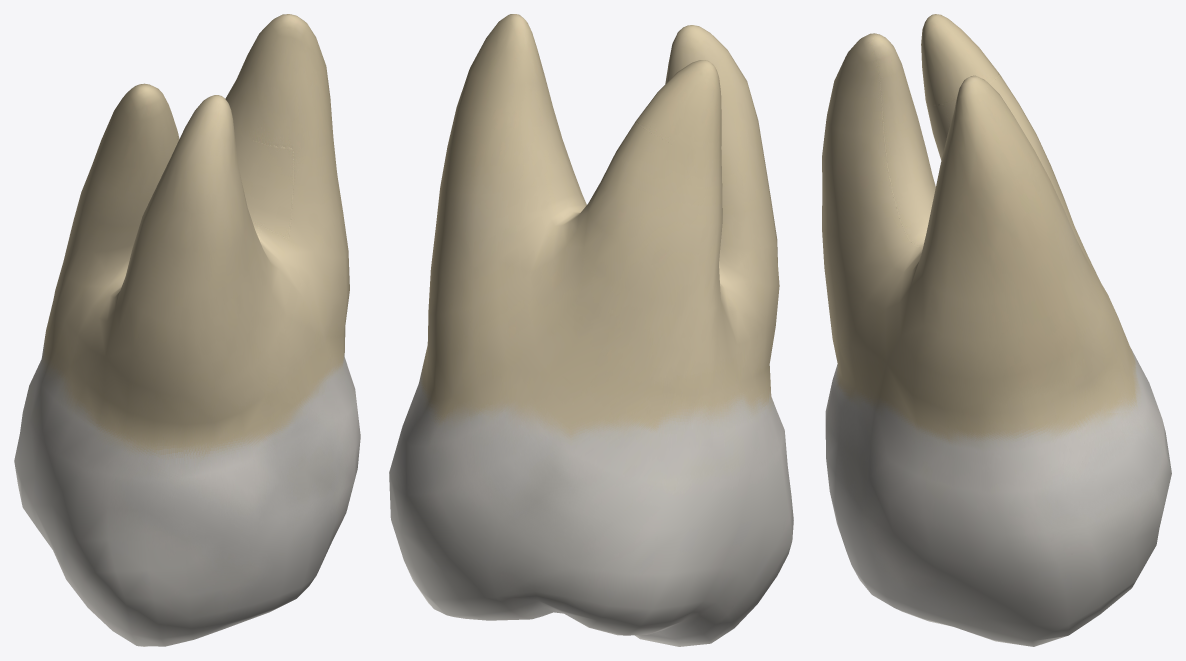
Rendered from tooth-18.glb.
3 views of the same model, side by side, from view 1: azimuth 30°, elevation 25°; view 2: azimuth 150°, elevation 25°; view 3: azimuth 270°, elevation 25° (orthographic). The views are drawn at different scales.
Visible parts, largest first — view 1: polySurface12_blinn20_0; view 2: polySurface12_blinn20_0; view 3: polySurface12_blinn20_0.
Boxes of the visible parts, x1,y1,x2,y2 form: polySurface12_blinn20_0: (14,14,360,646); polySurface12_blinn20_0: (389,14,793,646); polySurface12_blinn20_0: (822,14,1171,646).
Size of the model in its own units: 0.3002 by 0.5224 by 0.2865.
Materials: 1 (1 with a texture image).
